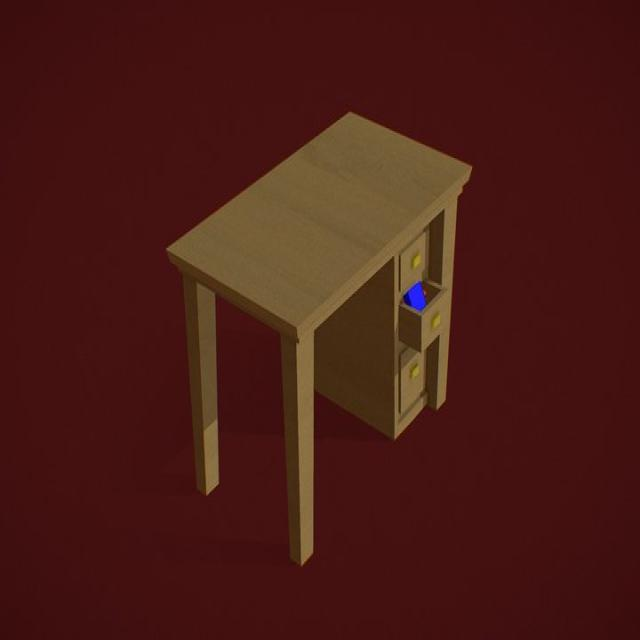table: (169, 107, 475, 568)
